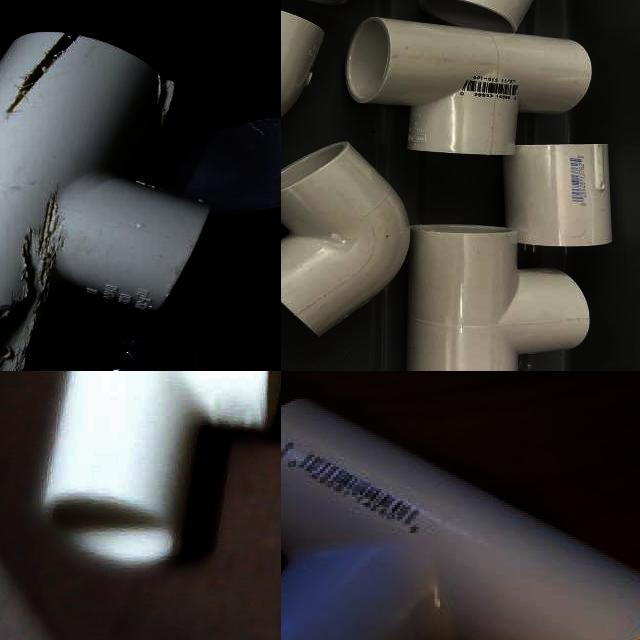Defective: (0, 233, 49, 371), (3, 36, 74, 119), (124, 72, 176, 176)
L Joint: (281, 143, 408, 339)
T Joint: (281, 398, 640, 640), (0, 32, 211, 371), (37, 371, 281, 572), (345, 19, 592, 157), (410, 227, 587, 371)
